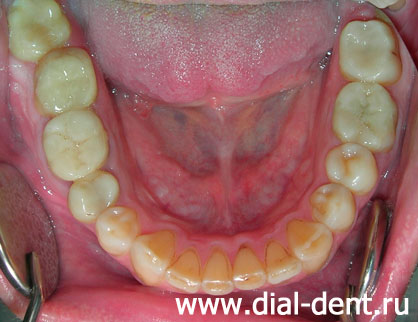LL1BC_decay: (311, 184, 354, 229)
LL1M_healthy: (335, 82, 395, 149)
LL2BC_decay: (326, 143, 377, 194)
LL2M_healthy: (341, 21, 391, 79)
LLCI_decay: (234, 248, 266, 290)
LLC_decay: (289, 221, 333, 268)
LLLI_decay: (266, 244, 299, 283)
LR1BC_healthy: (97, 206, 139, 253)
LR1M_healthy: (42, 112, 107, 179)
LR2BC_healthy: (68, 170, 118, 221)
LR2M_healthy: (38, 52, 95, 112)
LR3M_healthy: (8, 1, 67, 60)
LRCI_decay: (202, 253, 232, 295)
LRC_decay: (132, 232, 172, 283)
LRLI_decay: (164, 252, 200, 293)
